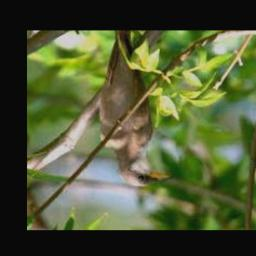Cuckoo: (99, 31, 174, 187)
